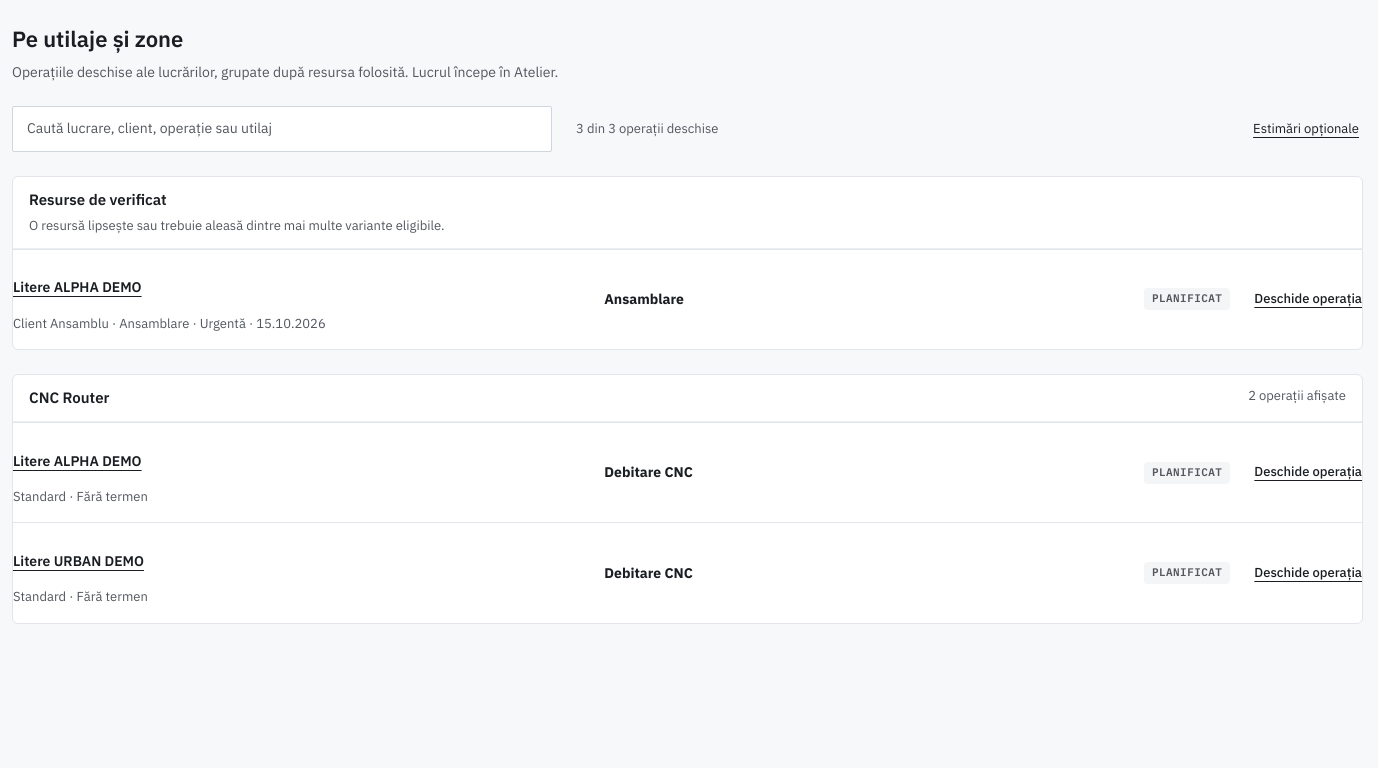
Scenario: JobsWorkload › keeps a member's optional estimate view read-only
Expected: the heading "CNC Router" is shown, [29, 388, 109, 407]
Click the button "Estimări opționale". click: (1306, 129)
box: [1249, 107, 1363, 151]
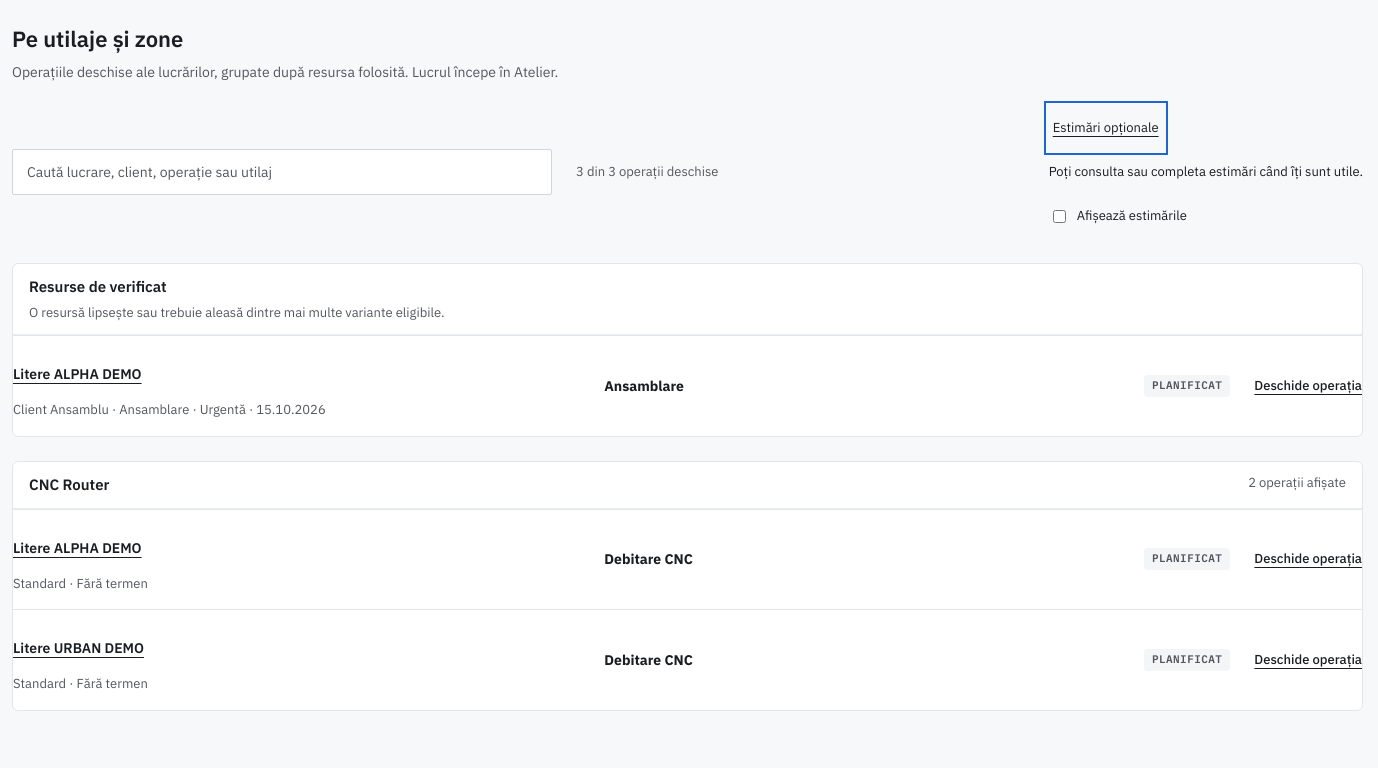
Click the checkbox labelled "Afișează estimările". click: (1059, 217)
box: [1053, 210, 1066, 223]
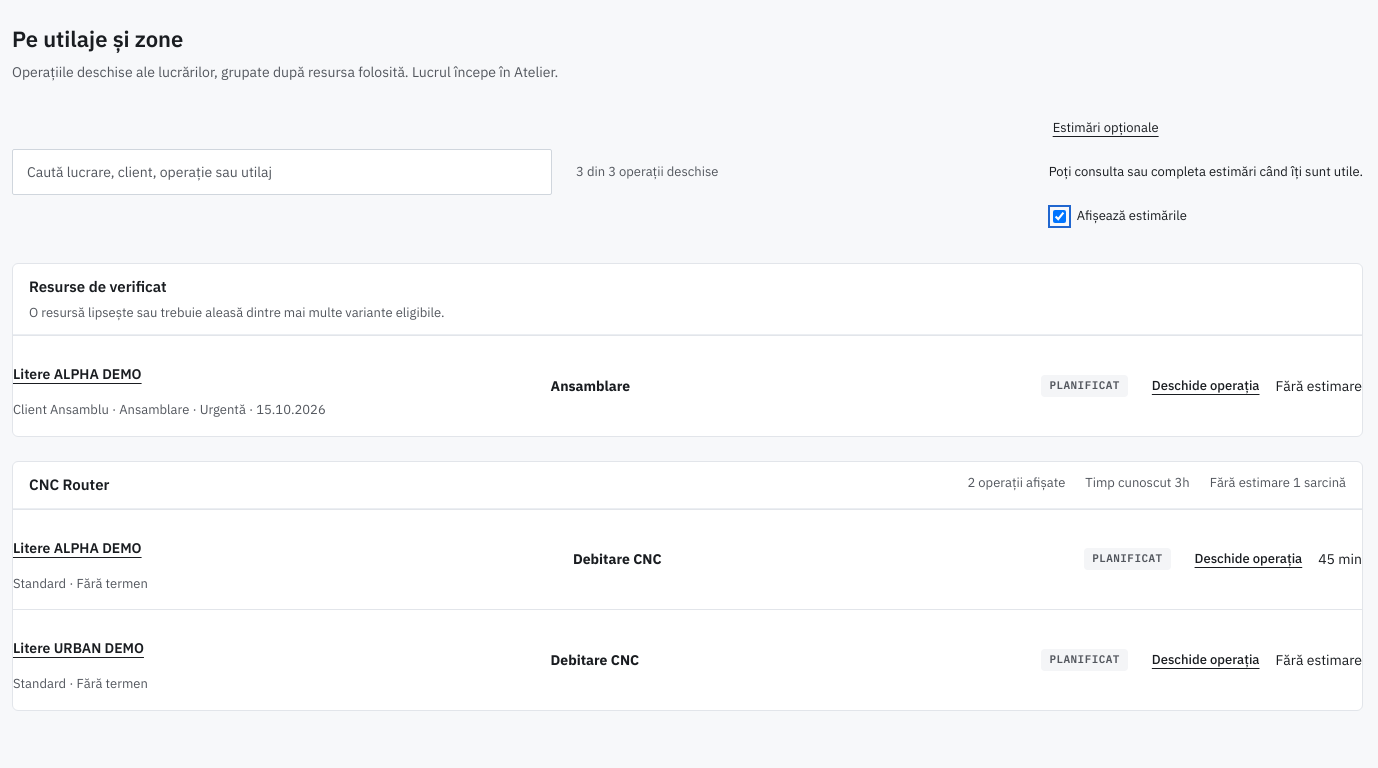
Expected: the text "45 min" is shown, [1318, 549, 1362, 570]
